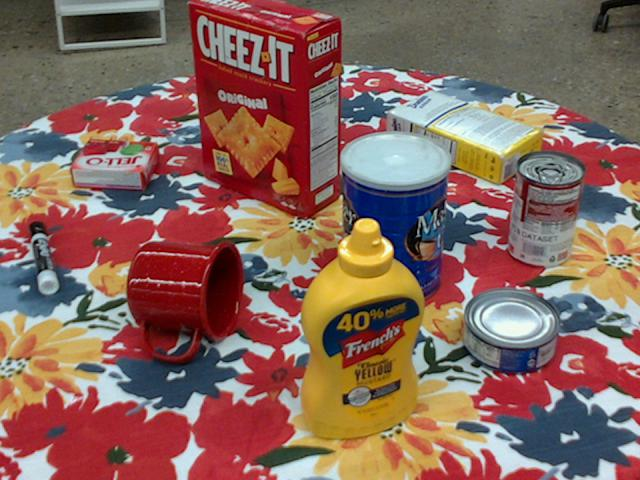cracker_box: (190, 0, 342, 214)
gelatin_box: (70, 140, 159, 190)
large_marker: (28, 220, 57, 293)
master_chef_can: (340, 131, 450, 308)
mug: (125, 241, 242, 361)
mustard_bottle: (299, 218, 422, 439)
potted_meat_can: (206, 49, 286, 128)
sugar_box: (386, 88, 544, 186)
tomato_soup_can: (508, 150, 584, 267)
tuna_fish_can: (461, 289, 558, 375)
